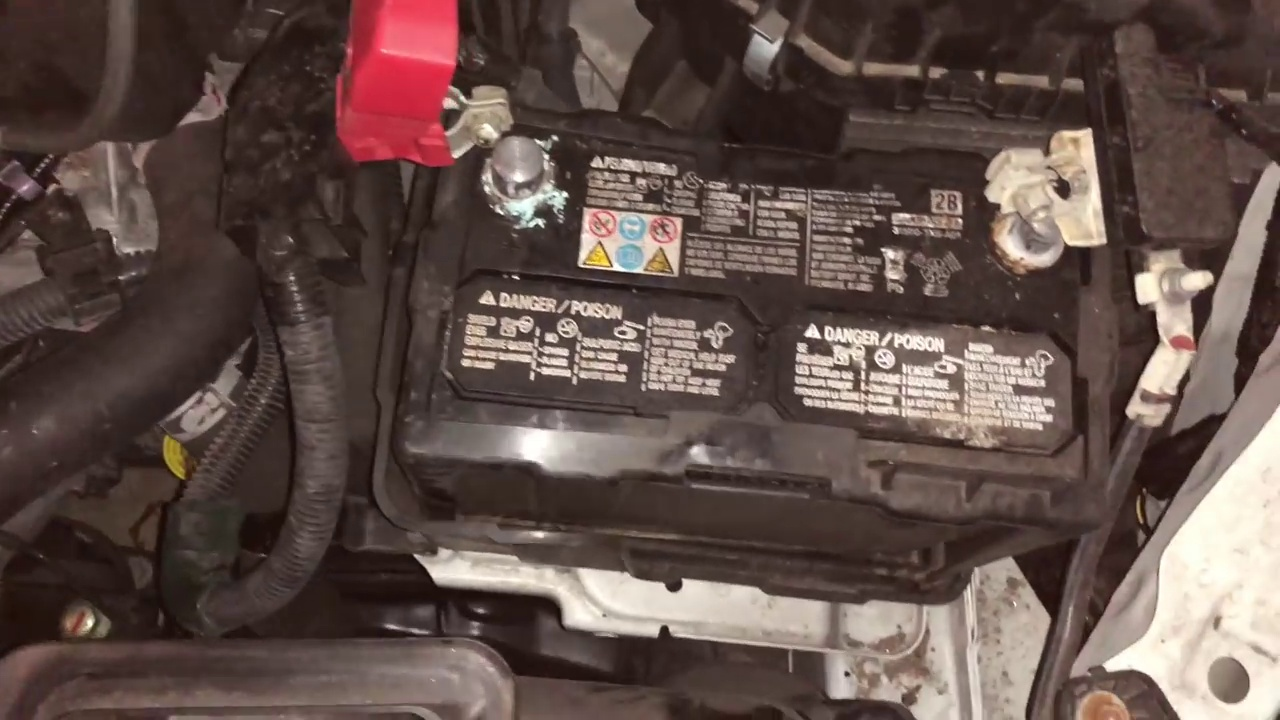battery: (386, 75, 1110, 504)
neg_disconnected: (947, 135, 1118, 303)
pos_disconnected: (330, 29, 586, 237)
